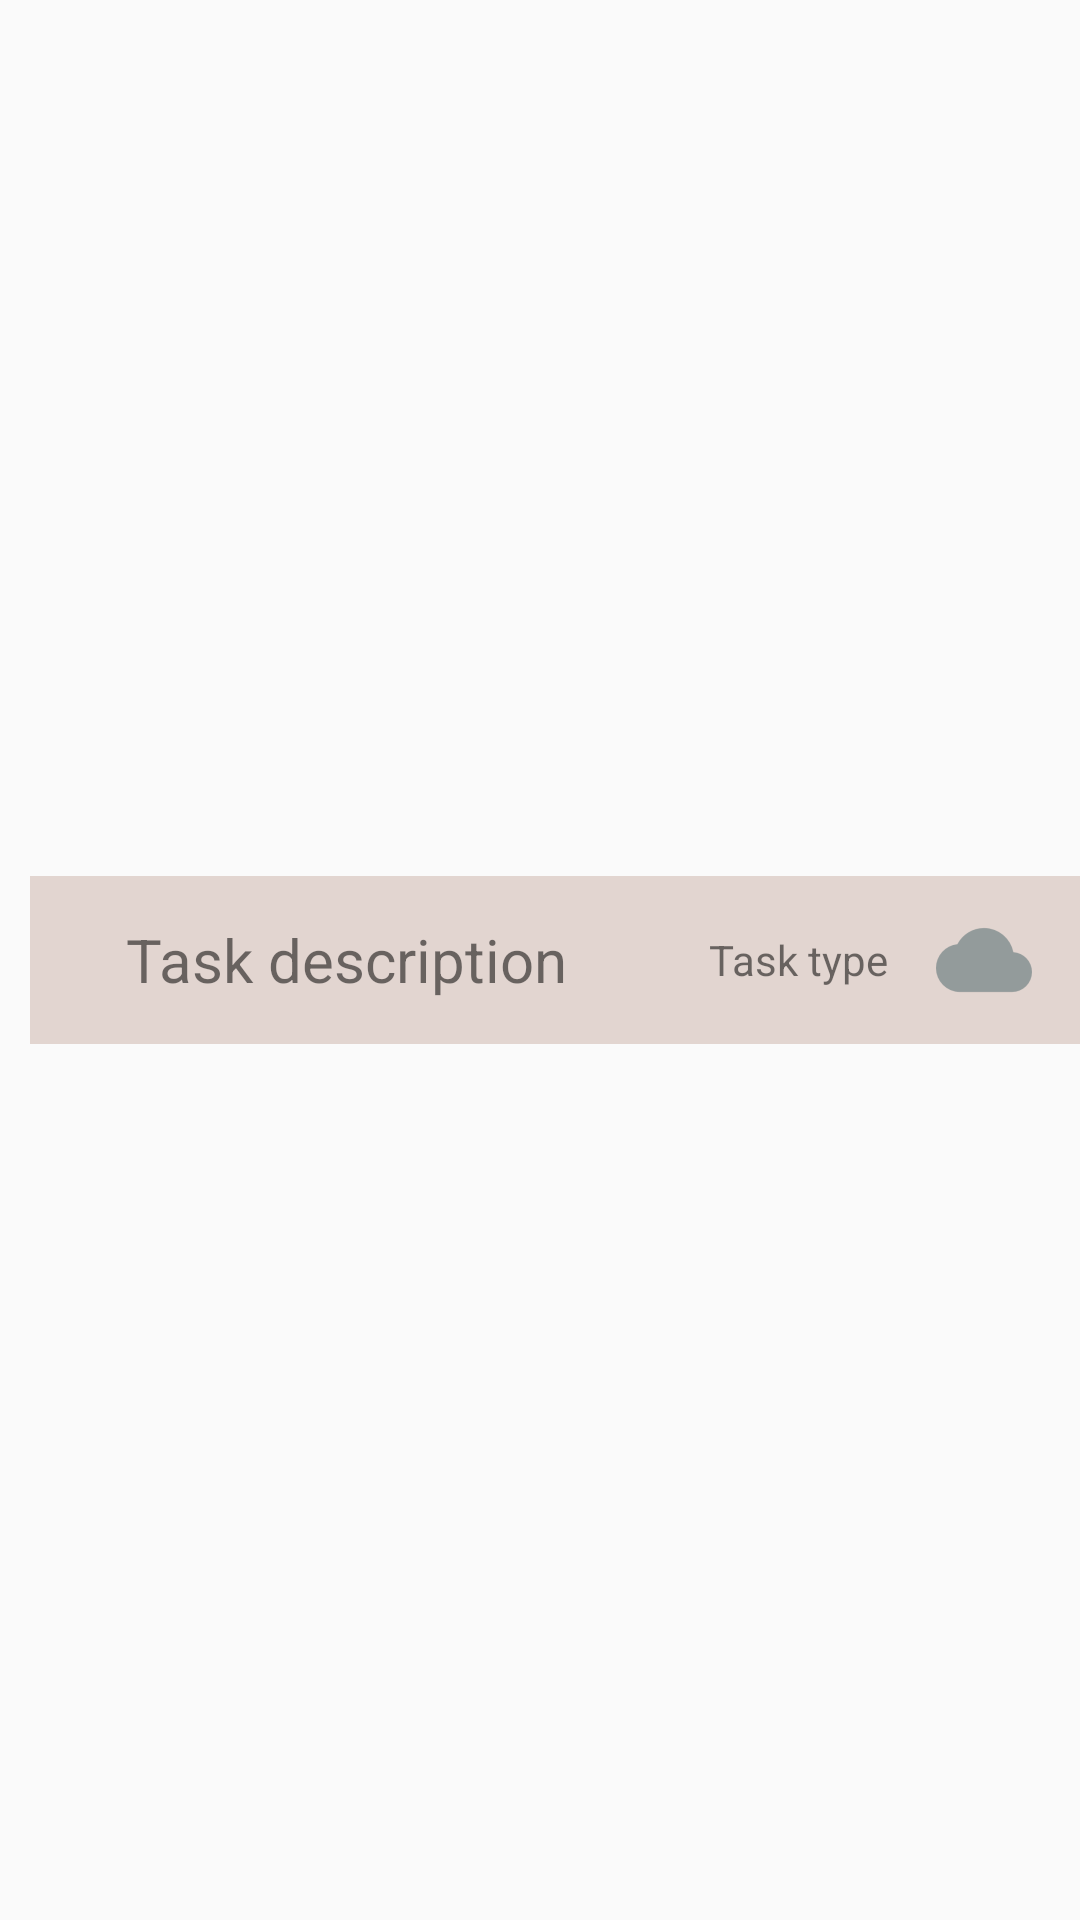

Where to tap for icons on this 1080px×1920px app screen, as (x=x, y=y):
cloud: (x=984, y=960)
